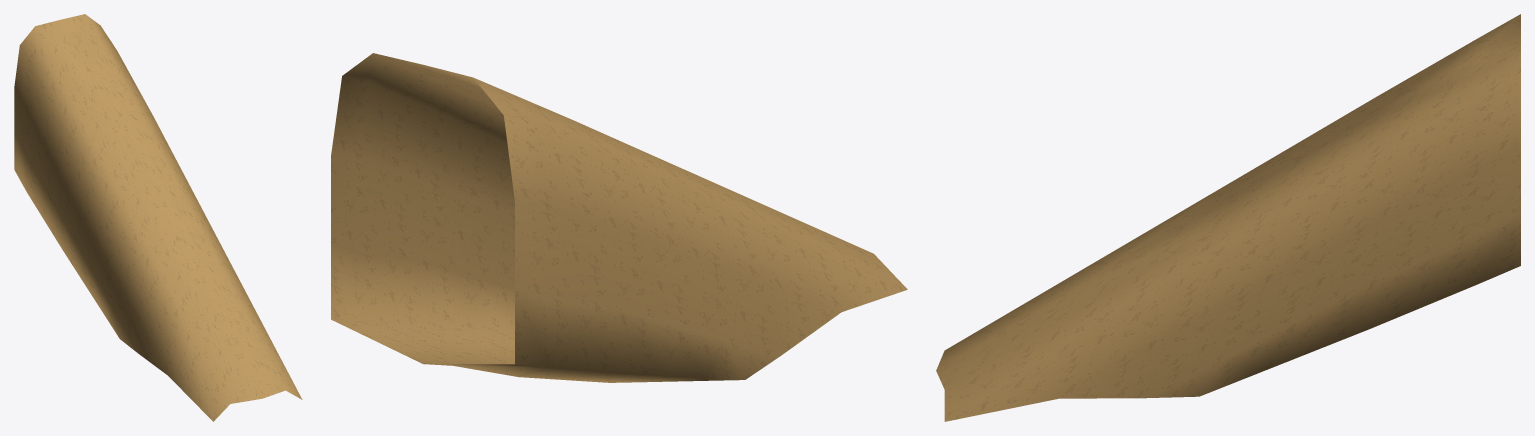
The model's file is test-sunshafts.glb.
3 renders of one model, left to right at view 1: azimuth 30°, elevation 25°; view 2: azimuth 150°, elevation 25°; view 3: azimuth 270°, elevation 25°, orthographic. The views are drawn at different scales.
Parts seen in each view (by area): view 1: god_rays; view 2: god_rays; view 3: god_rays.
Part boxes in pixels (x1=…): god_rays: x1=14, y1=14, x2=302, y2=421; god_rays: x1=331, y1=53, x2=907, y2=382; god_rays: x1=936, y1=14, x2=1520, y2=421.
Bounding box in the file's own units: 57.95 × 134 × 198.
1 material, 1 textured.
